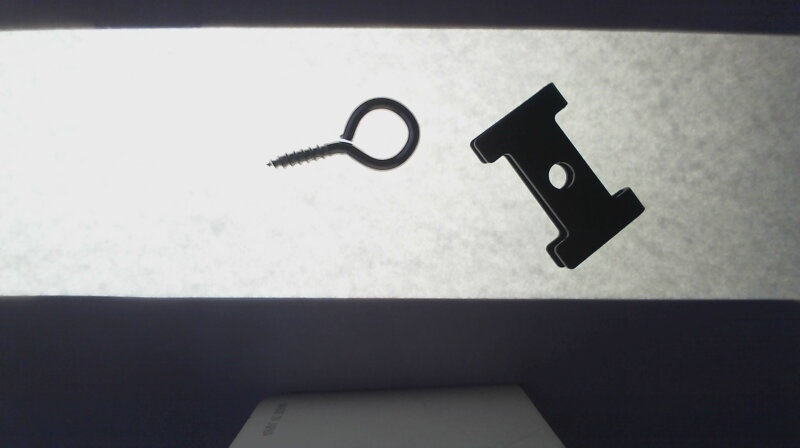O001: (262, 96, 421, 180)
O002: (469, 82, 648, 268)
